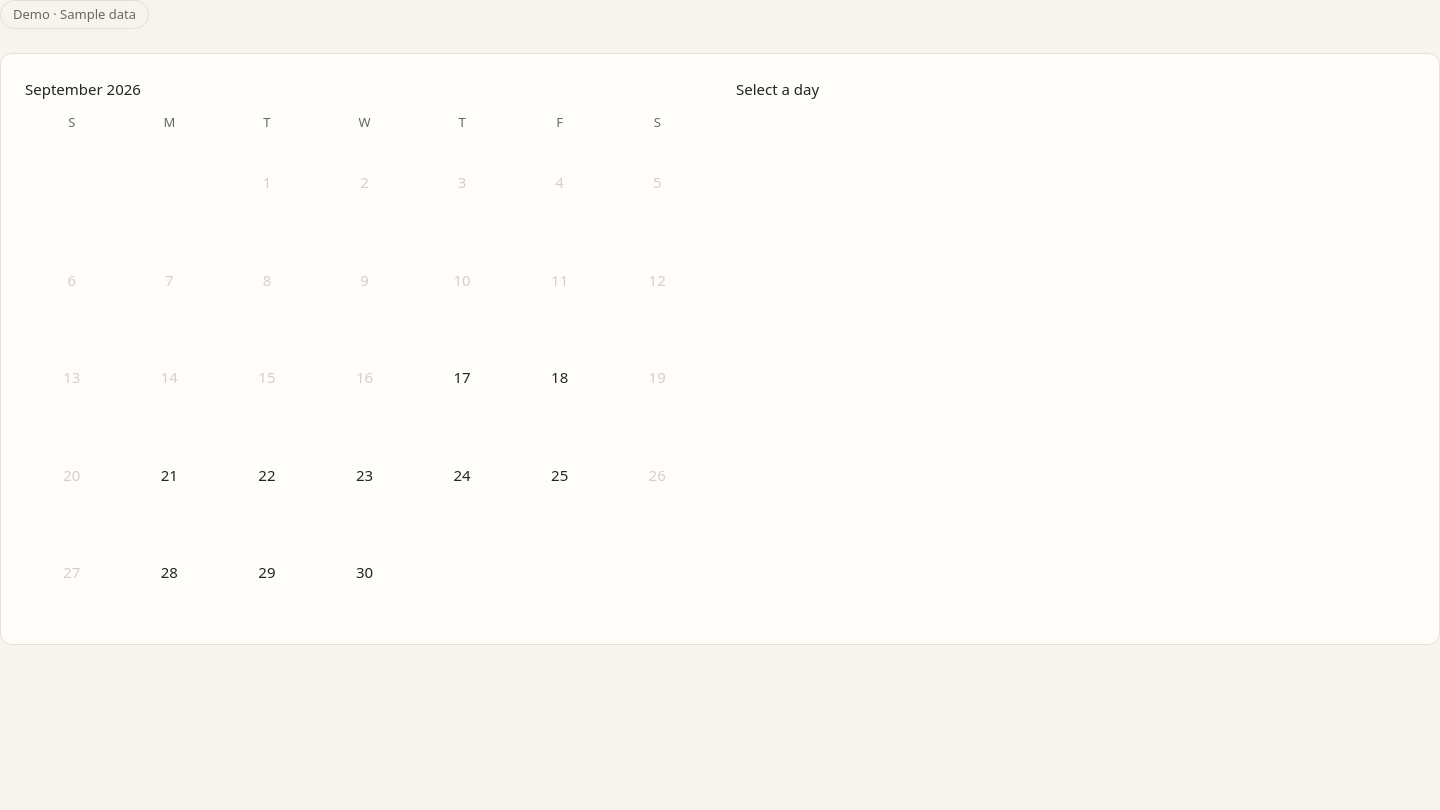
it: BookingDemo › disables the confirm button until a time is picked
Click the button "17". click: [462, 378]
box: 415,331 -> 509,425
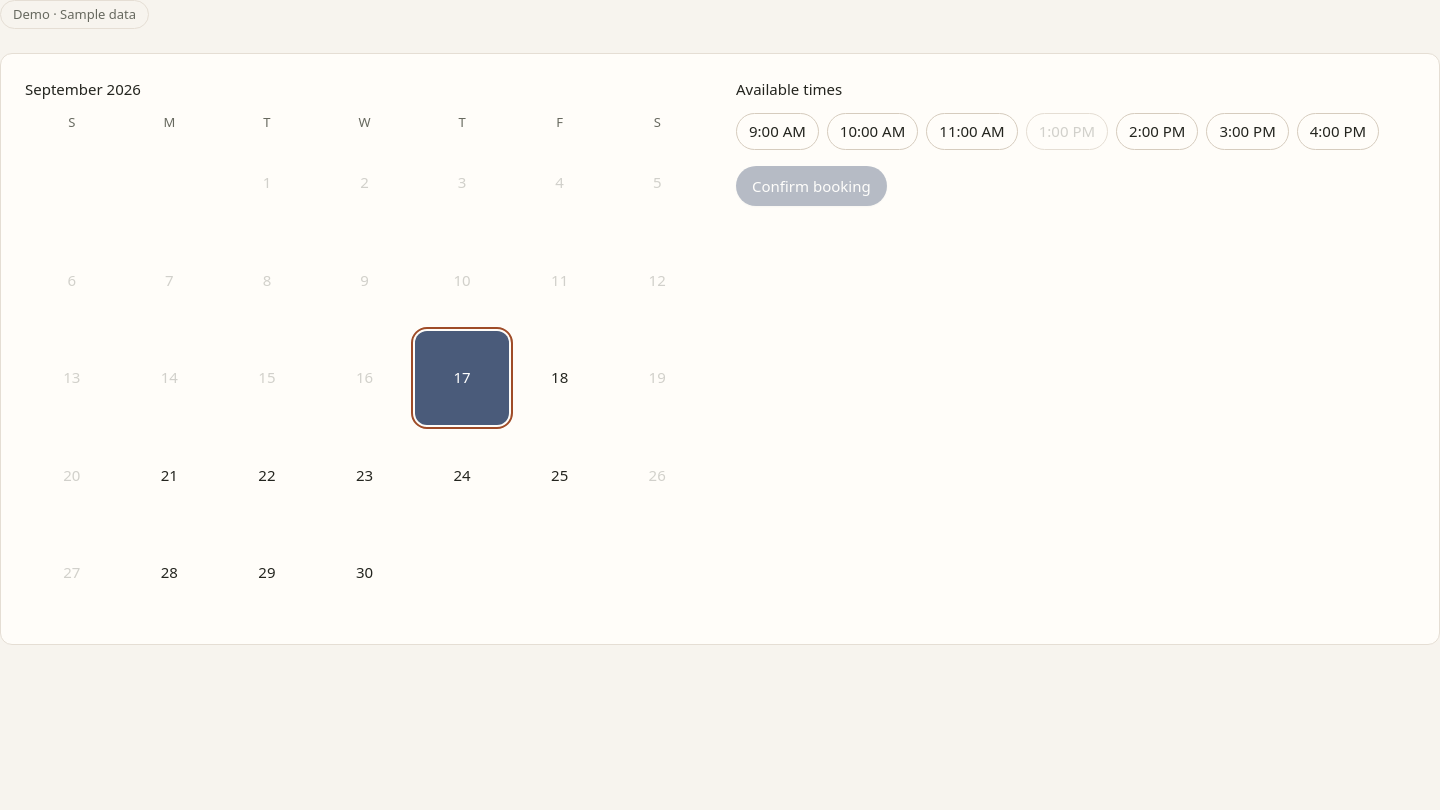
Result: the text "Available times" is shown at 736,79 -> 842,99
Result: the button "Confirm booking" is disabled at 736,166 -> 887,206
